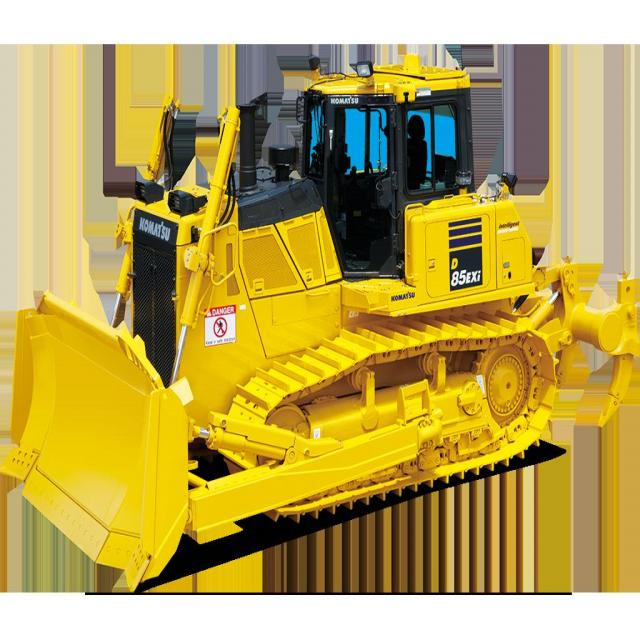Bulldozer: (18, 42, 640, 590)
